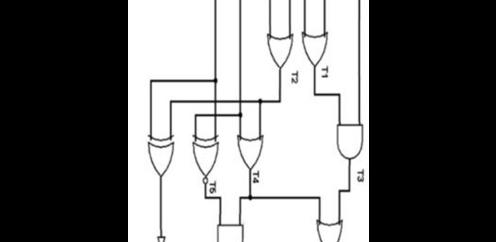and: (326, 114, 367, 166)
nand: (211, 215, 249, 242)
nor: (303, 218, 352, 242)
not: (153, 233, 167, 242)
or: (224, 126, 272, 171), (298, 23, 334, 71), (261, 24, 295, 72)
xnor: (185, 130, 222, 186)
xor: (143, 130, 178, 178)
